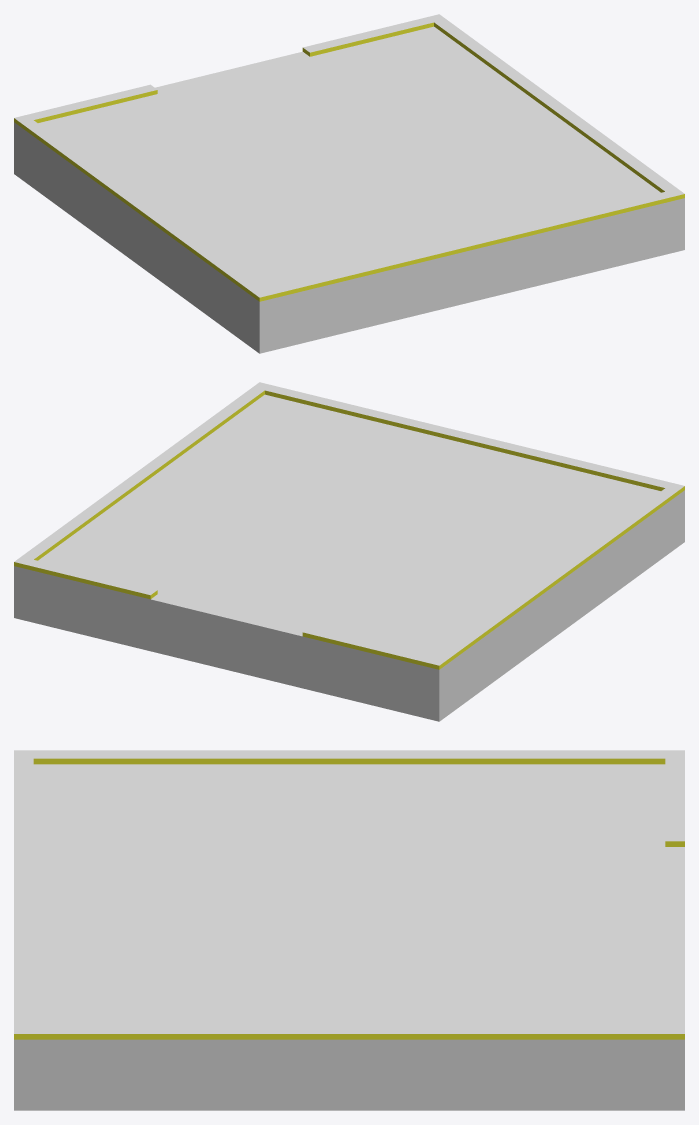
The model's file is MainPlazza.fbx.
3 views of the same model, one above another, from view 1: azimuth 30°, elevation 25°; view 2: azimuth 150°, elevation 25°; view 3: azimuth 270°, elevation 25° (orthographic). The views are drawn at different scales.
Visible parts, largest first — view 1: MainPlazza; view 2: MainPlazza; view 3: MainPlazza.
Part boxes in pixels (bbox=[...]): MainPlazza: bbox=[14, 14, 684, 353]; MainPlazza: bbox=[14, 382, 684, 721]; MainPlazza: bbox=[14, 750, 684, 1110].
Bounding box in the file's own units: 540 × 68.06 × 540.
